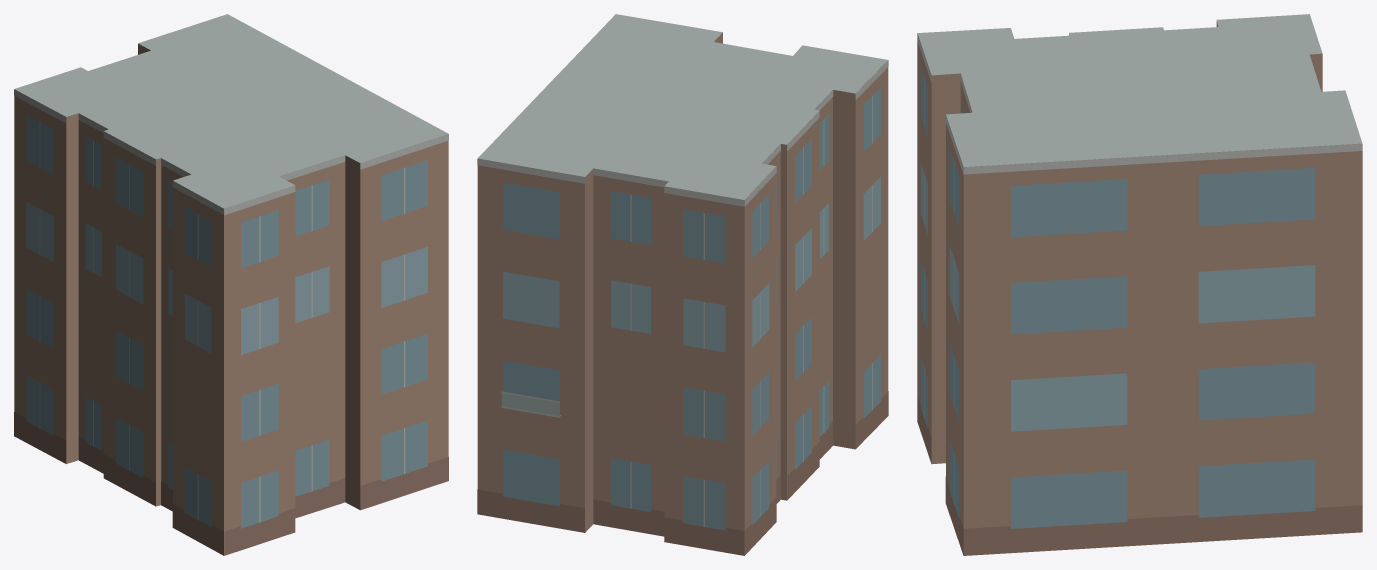
File: survey-upis-32716134.glb
3 renders of one model, left to right at view 1: azimuth 30°, elevation 25°; view 2: azimuth 150°, elevation 25°; view 3: azimuth 270°, elevation 25°, orthographic. The views are drawn at different scales.
Visible parts, largest first — view 1: survey-upis-32716134.tmp; view 2: survey-upis-32716134.tmp; view 3: survey-upis-32716134.tmp.
Part boxes in pixels (bbox=[...]): survey-upis-32716134.tmp: bbox=[14, 14, 448, 555]; survey-upis-32716134.tmp: bbox=[477, 14, 888, 555]; survey-upis-32716134.tmp: bbox=[917, 14, 1362, 555].
Size of the model in its own units: 10.84 by 12.82 by 13.31.
